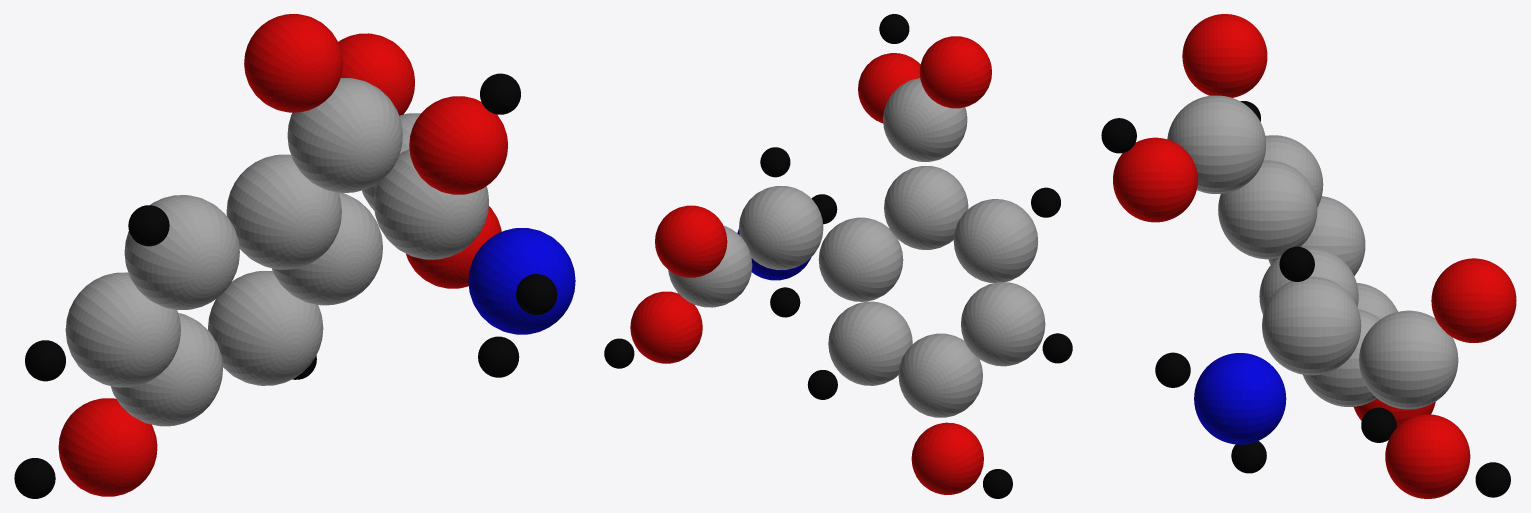
Rendered from L-Dopa (Levodopa).glb.
3 views of the same model, side by side, from view 1: azimuth 30°, elevation 25°; view 2: azimuth 150°, elevation 25°; view 3: azimuth 270°, elevation 25° (orthographic). The views are drawn at different scales.
Visible parts, largest first — view 1: world; view 2: world; view 3: world.
Boxes of the visible parts, x1=… form: world: x1=14, y1=14, x2=575, y2=498; world: x1=604, y1=14, x2=1072, y2=498; world: x1=1101, y1=14, x2=1516, y2=498.
Bounding box in the file's own units: 7.47 × 7.01 × 5.85.
